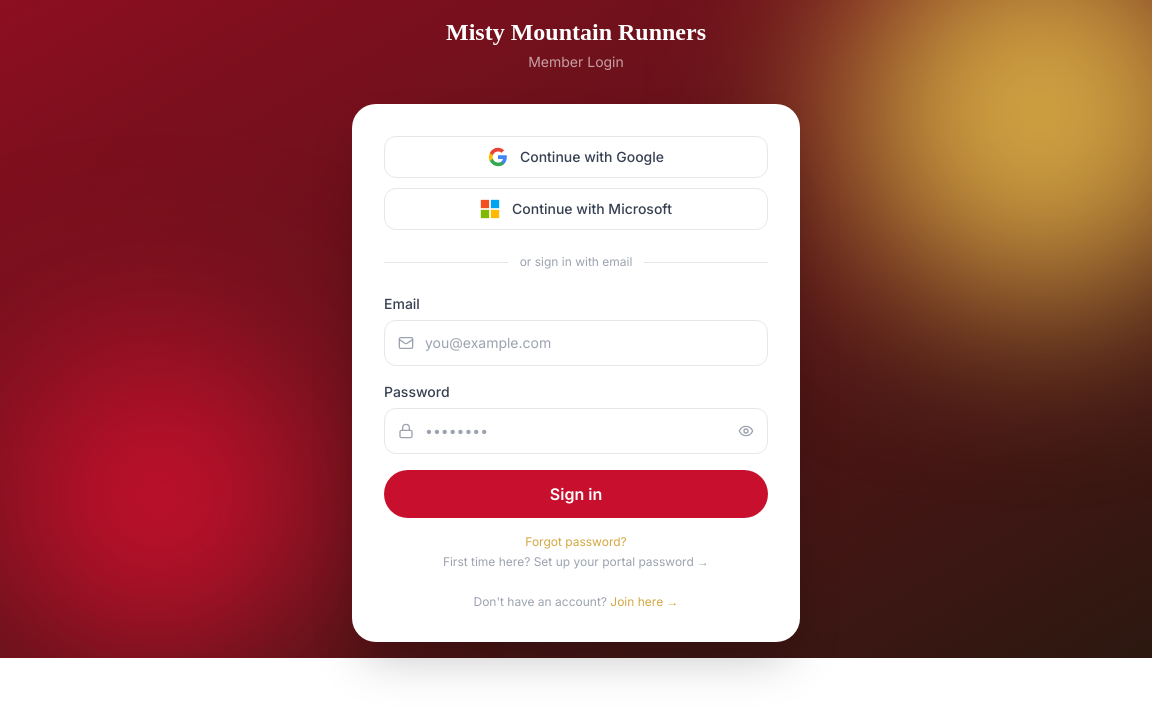
Test case: login page — OAuth stall › lets the member dismiss the stall notice and try again
Click the button "Continue with Google" at (576, 157), box top-left (384, 136), bottom-right (768, 178)
Wait 7000 ms
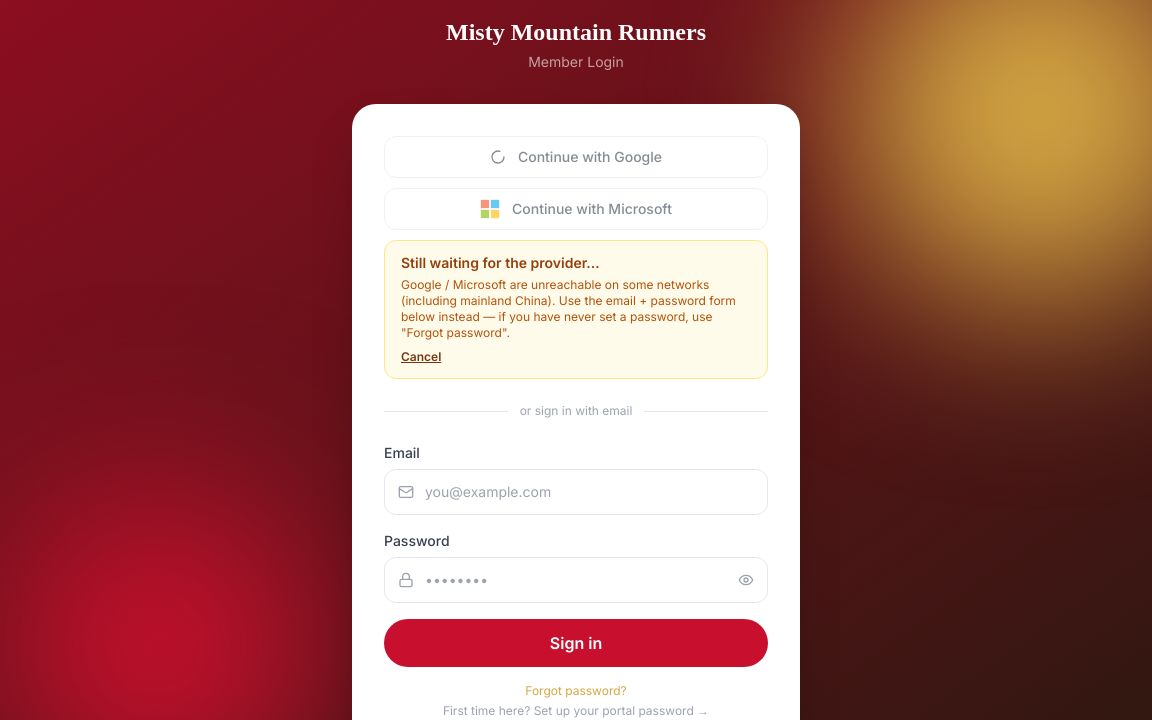
Click the button "Cancel" at (421, 357), box top-left (401, 349), bottom-right (441, 365)
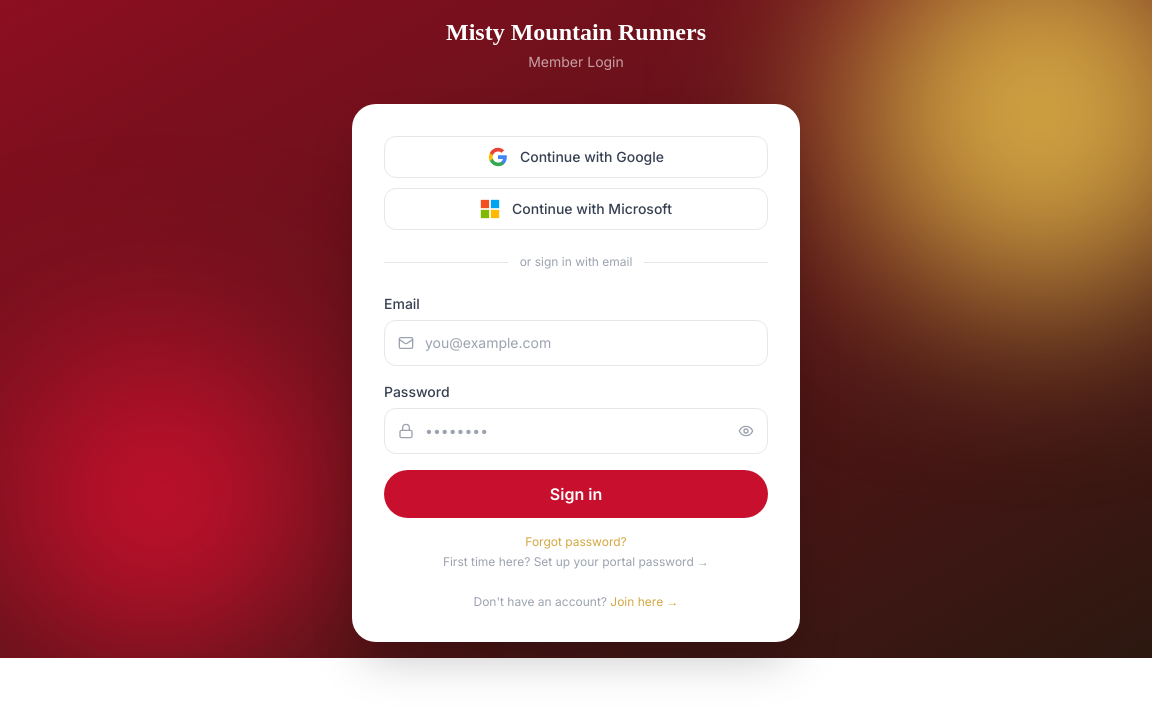
Check: the text "Still waiting for the provider" is gone
Check: the button "Continue with Google" is enabled, box top-left (384, 136), bottom-right (768, 178)
